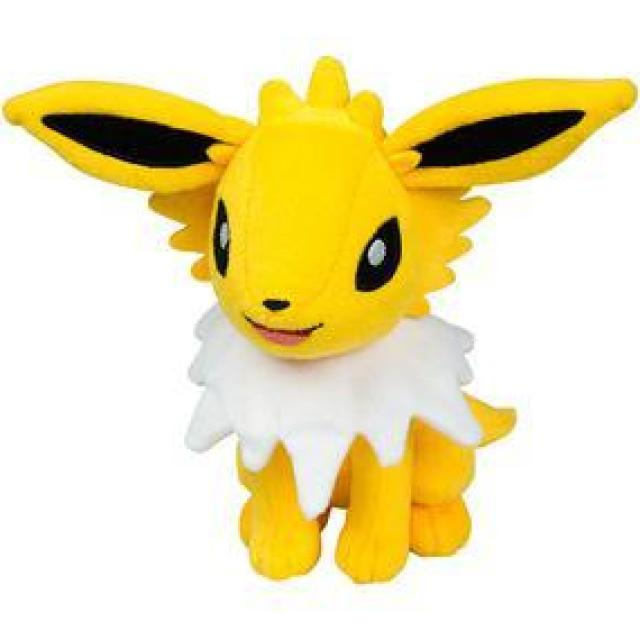Jolteon: (165, 51, 495, 589)
